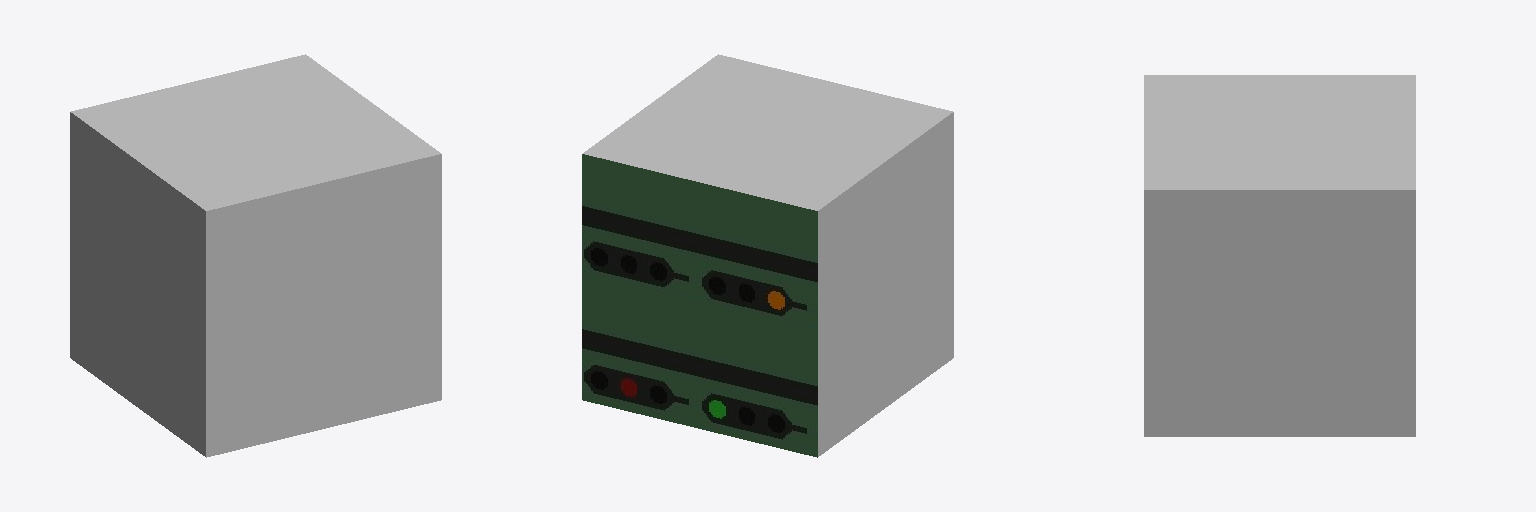
The picture shows the model from 3 angles: view 1: azimuth 30°, elevation 25°; view 2: azimuth 150°, elevation 25°; view 3: azimuth 270°, elevation 25°; orthographic projection.
Parts seen in each view (by area): view 1: generalCube, off; view 2: generalCube, off; view 3: generalCube, off.
Boxes of the visible parts, x1=… form: generalCube: x1=75, y1=57, x2=441, y2=457; off: x1=70, y1=54, x2=310, y2=363; generalCube: x1=589, y1=54, x2=953, y2=453; off: x1=582, y1=148, x2=825, y2=457; generalCube: x1=1144, y1=75, x2=1406, y2=436; off: x1=1399, y1=75, x2=1415, y2=436.
Size of the model in its own units: 1 by 1 by 1.
Materials: 6 (1 with a texture image).